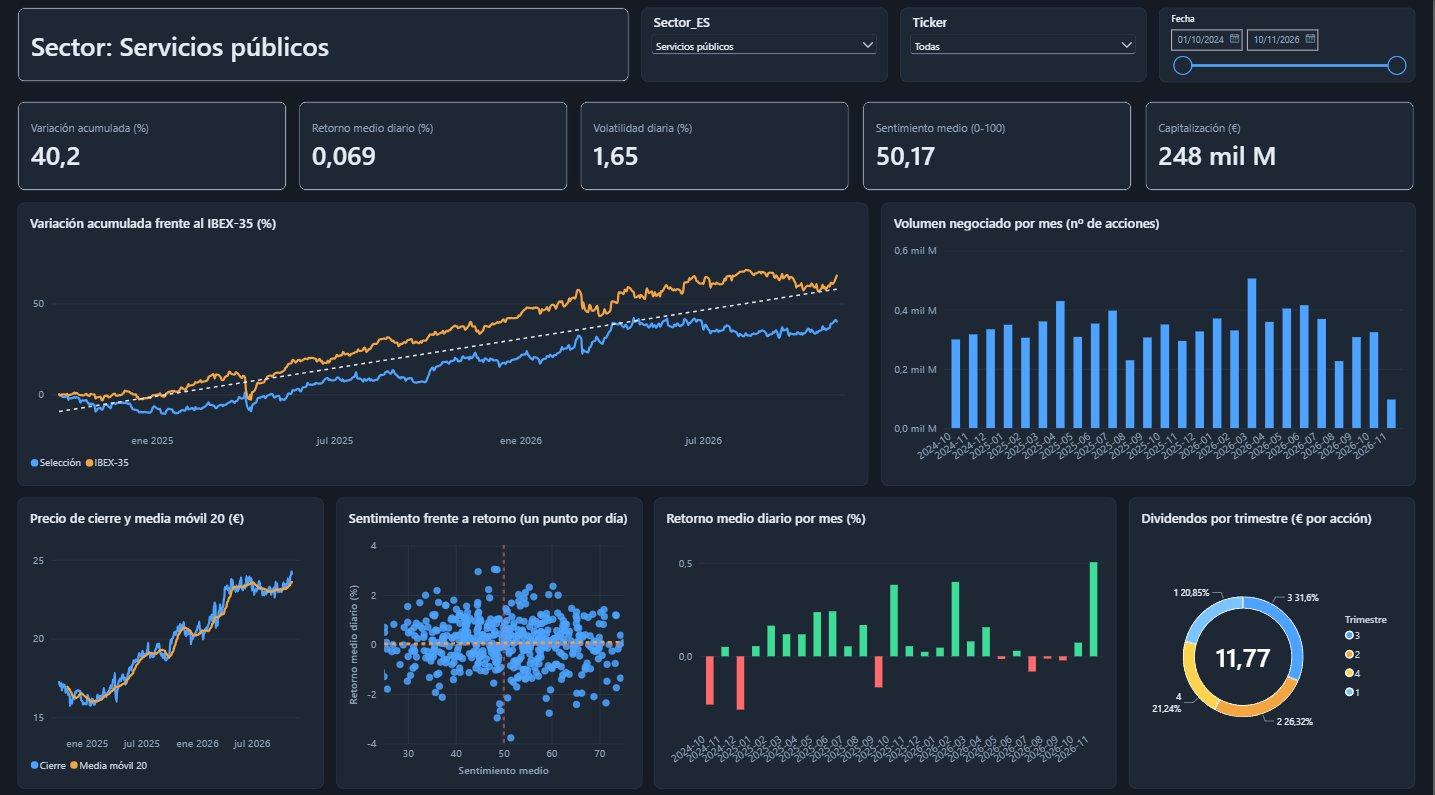

Layout of this report page (visuals, bound fields, positions):
{"tool":"powerbi","page":{"name":"Dashboard","canvas":[1920,1080],"ordinal":3},"visuals":[{"type":"slicer","fields":{"Values":["Empresa.Sector_ES"]},"box":[753.5,31.4,280.8,68],"z":0},{"type":"slicer","fields":{"Values":["Empresa.Ticker"]},"box":[1055.2,26.2,280.8,80.2],"z":1000},{"type":"slicer","fields":{"Values":["Fecha.Fecha"]},"box":[1360.5,19.2,280.8,95.9],"z":2000},{"type":"cardVisual","fields":{"Data":["Hechos.Variacion Acumulada"]},"box":[36.6,115.1,218,174.4],"z":3000},{"type":"cardVisual","fields":{"Data":["Hechos.Retorno Medio Diario"]},"box":[375,115.1,218,174.4],"z":4000},{"type":"cardVisual","fields":{"Data":["Hechos.Volatilidad Diaria"]},"box":[741.3,115.1,218,174.4],"z":5000},{"type":"cardVisual","fields":{"Data":["Hechos.Sentimiento Medio"]},"box":[1088.4,115.1,218,174.4],"z":6000},{"type":"cardVisual","fields":{"Data":["Hechos.Capitalizacion Total"]},"box":[1447.7,115.1,218,174.4],"z":7000},{"type":"lineChart","fields":{"Category":["Fecha.Fecha"],"Y":["Hechos.Var Acum Seleccion","Hechos.Var Acum IBEX"]},"box":[43.6,314,1058.7,376.7],"z":8000},{"type":"clusteredColumnChart","fields":{"Category":["Fecha.AnioMes"],"Y":["Sum(Hechos.Volume)"]},"box":[1133.7,314,736,376.7],"z":9000},{"type":"lineChart","fields":{"Category":["Fecha.Fecha"],"Y":["Avg(Hechos.Close)","Avg(Hechos.Media_Movil_20)"]},"box":[66.3,711.6,395.9,322.7],"z":10000},{"type":"scatterChart","fields":{"Category":["Fecha.Fecha"],"X":["Hechos.Sentimiento Medio"],"Y":["Hechos.Retorno Medio Diario"]},"box":[462.2,711.6,444.8,322.7],"z":11000},{"type":"clusteredColumnChart","fields":{"Category":["Fecha.AnioMes"],"Y":["Hechos.Retorno Medio Diario"]},"box":[907,711.6,610.5,322.7],"z":12000},{"type":"donutChart","fields":{"Category":["Fecha.Trimestre"],"Y":["Sum(Hechos.Dividends)"]},"box":[1517.4,711.6,385.5,322.7],"z":13000},{"type":"cardVisual","fields":{"Data":["Hechos.Titulo Dashboard"]},"box":[66.3,19.2,556.4,75],"z":13001}]}

Visuals, with their boxes in screenshot pixels (x1, y1, x2, y2), scaled from the page's 1920x1080 canvas onto the 1435x795 screenshot:
slicer - Empresa.Sector_ES: Rect(563, 23, 773, 73)
slicer - Empresa.Ticker: Rect(789, 19, 999, 78)
slicer - Fecha.Fecha: Rect(1017, 14, 1227, 85)
cardVisual - Hechos.Variacion Acumulada: Rect(27, 85, 190, 213)
cardVisual - Hechos.Retorno Medio Diario: Rect(280, 85, 443, 213)
cardVisual - Hechos.Volatilidad Diaria: Rect(554, 85, 717, 213)
cardVisual - Hechos.Sentimiento Medio: Rect(813, 85, 976, 213)
cardVisual - Hechos.Capitalizacion Total: Rect(1082, 85, 1245, 213)
lineChart - Fecha.Fecha x Hechos.Var Acum Seleccion: Rect(33, 231, 824, 508)
clusteredColumnChart - Fecha.AnioMes x Sum(Hechos.Volume): Rect(847, 231, 1397, 508)
lineChart - Fecha.Fecha x Avg(Hechos.Close): Rect(50, 524, 345, 761)
scatterChart - Fecha.Fecha x Hechos.Sentimiento Medio: Rect(345, 524, 678, 761)
clusteredColumnChart - Fecha.AnioMes x Hechos.Retorno Medio Diario: Rect(678, 524, 1134, 761)
donutChart - Fecha.Trimestre x Sum(Hechos.Dividends): Rect(1134, 524, 1422, 761)
cardVisual - Hechos.Titulo Dashboard: Rect(50, 14, 465, 69)
